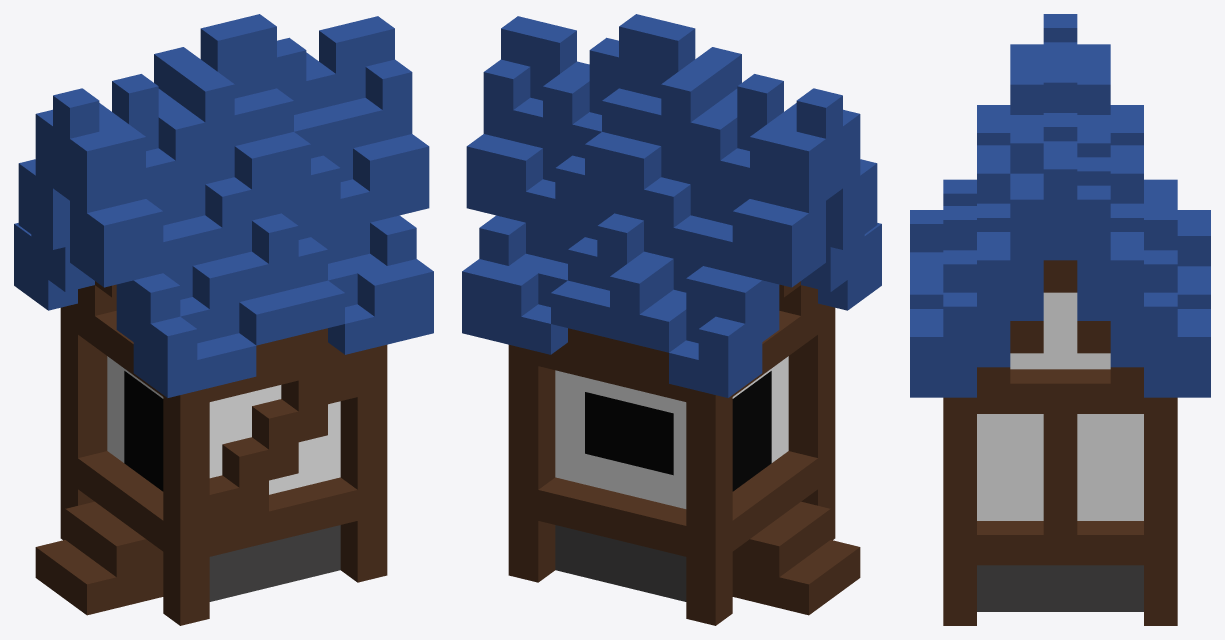
Rendered from house17.fbx.
3 views of the same model, side by side, from view 1: azimuth 30°, elevation 25°; view 2: azimuth 150°, elevation 25°; view 3: azimuth 270°, elevation 25° (orthographic). The views are drawn at different scales.
Visible parts, largest first — view 1: house1-20; view 2: house1-20; view 3: house1-20.
Part boxes in pixels (x1,y1,x2,y2): house1-20: [14, 14, 433, 625]; house1-20: [462, 14, 881, 625]; house1-20: [910, 14, 1210, 625].
Bounding box in the file's own units: 1100 × 1700 × 900.
